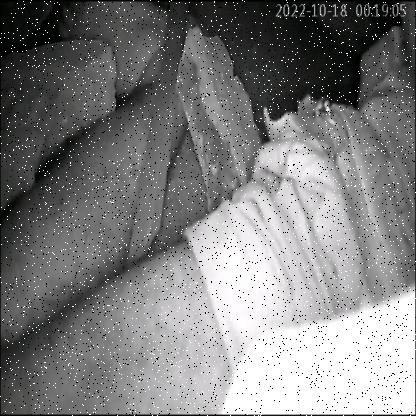leg: (47, 0, 207, 135)
